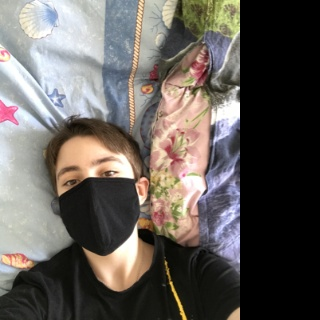with_mask: (56, 148, 140, 256)
